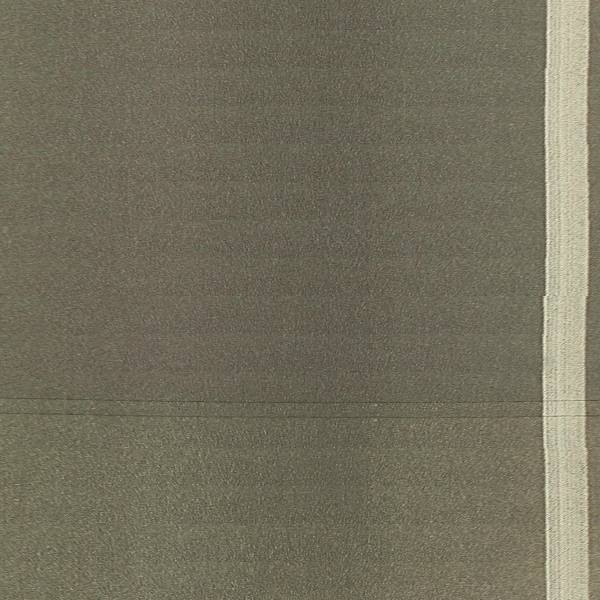road_damage: (1, 406, 577, 424)
